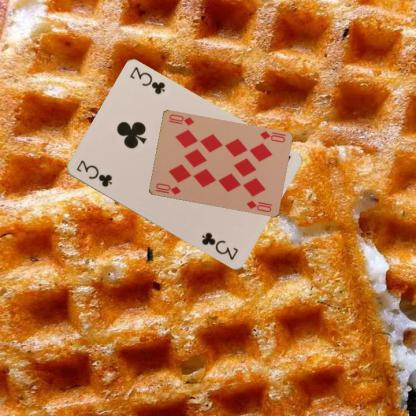10d: (257, 128, 287, 144), (153, 181, 182, 196)
3c: (74, 157, 114, 189)
